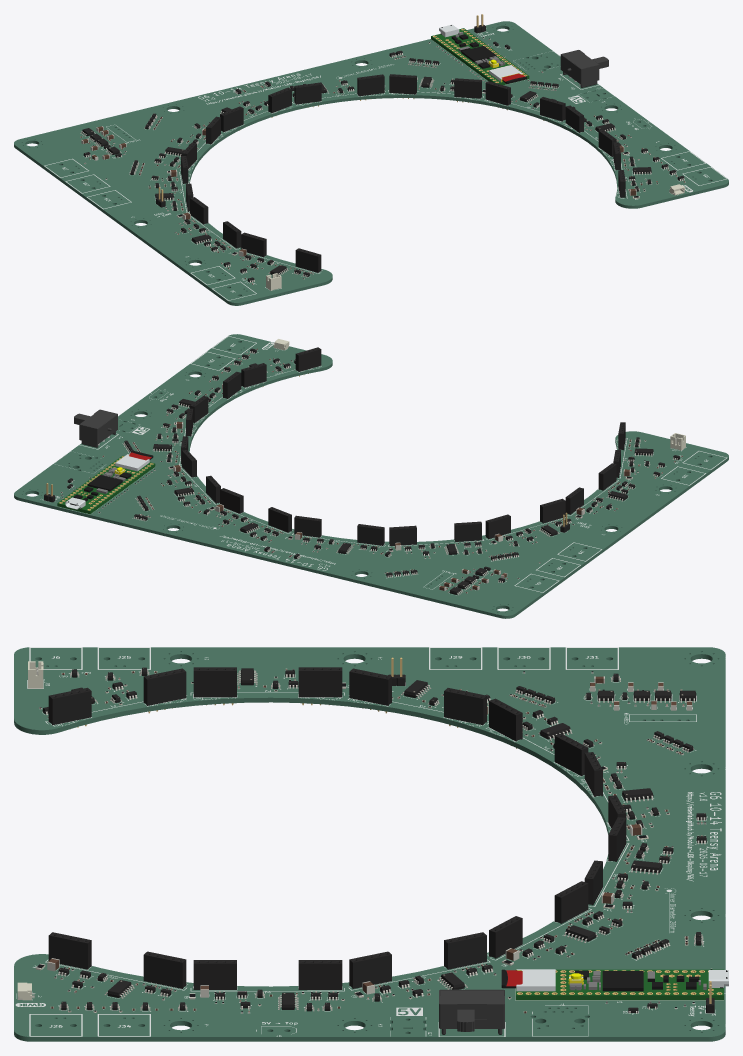
File: arena_10-14-v1.0.glb
The picture shows the model from 3 angles, top to bottom: view 1: azimuth 30°, elevation 25°; view 2: azimuth 150°, elevation 25°; view 3: azimuth 270°, elevation 25°; orthographic projection. The views are drawn at different scales.
Parts seen in each view (by area): view 1: =>[0:1:1:36], =>[0:1:1:9] (×9), =>[0:1:1:34], =>[0:1:1:23], =>[0:1:1:31]; view 2: =>[0:1:1:36], =>[0:1:1:9] (×9), =>[0:1:1:34], =>[0:1:1:23], =>[0:1:1:31]; view 3: =>[0:1:1:36], =>[0:1:1:9] (×18), =>[0:1:1:23], =>[0:1:1:34], =>[0:1:1:31].
Part boxes in pixels (x1,y1,x2,y2): =>[0:1:1:36]: (14,21,728,305); =>[0:1:1:9] (×9): (241,74,565,272); =>[0:1:1:34]: (44,28,726,300); =>[0:1:1:23]: (431,24,529,85); =>[0:1:1:31]: (560,50,608,87); =>[0:1:1:36]: (14,334,728,618); =>[0:1:1:9] (×9): (241,347,565,545); =>[0:1:1:34]: (40,336,727,595); =>[0:1:1:23]: (57,451,155,514); =>[0:1:1:31]: (74,409,117,447); =>[0:1:1:36]: (14,647,725,1041); =>[0:1:1:9] (×18): (48,667,626,989); =>[0:1:1:23]: (501,969,728,1000); =>[0:1:1:34]: (15,647,725,1036); =>[0:1:1:31]: (439,989,504,1034).
Size of the model in its own units: 0.2787 by 0.0144 by 0.2093.
